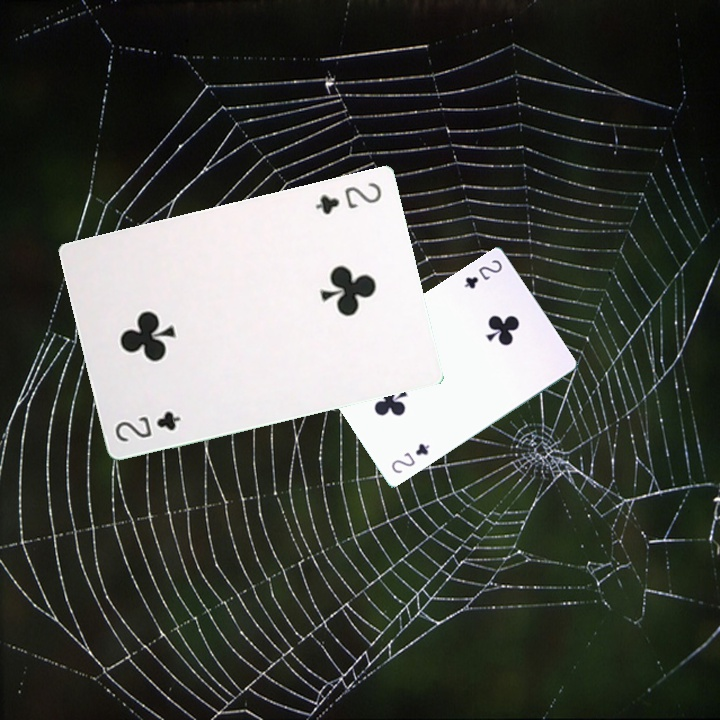2c: (311, 178, 384, 217), (111, 406, 183, 445), (387, 439, 432, 476), (460, 255, 505, 292)
